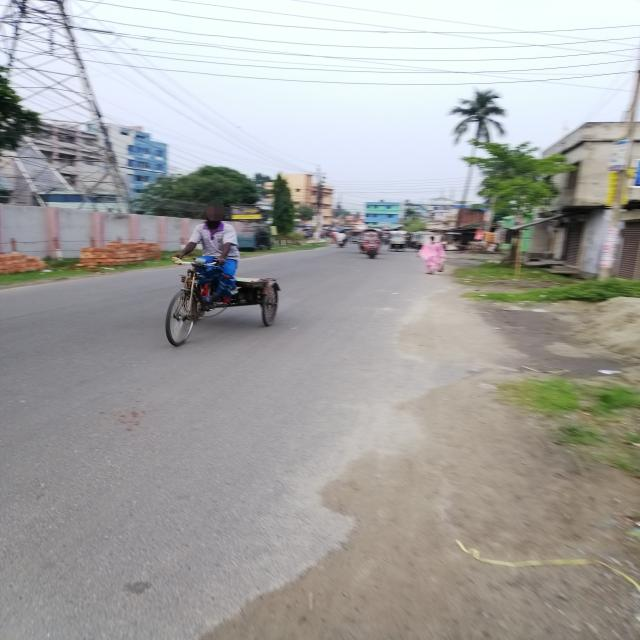Van: (140, 253, 296, 347)
